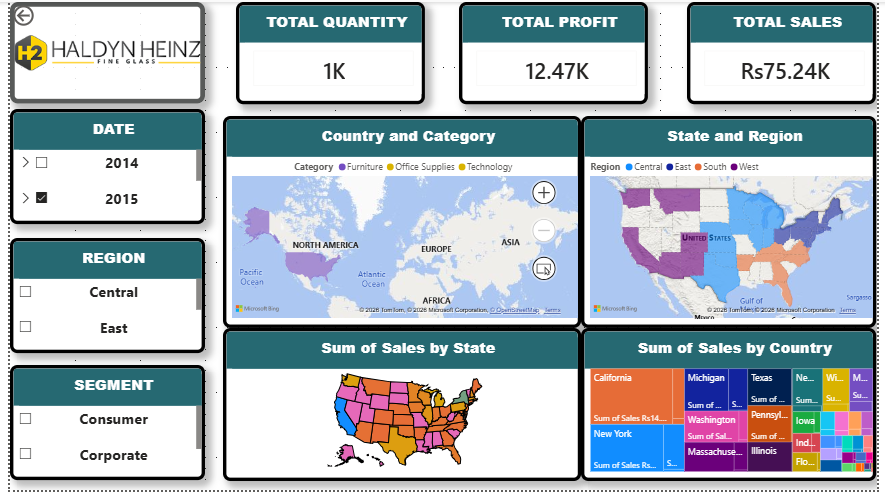

The page's visual inventory and layout, read from the dashboard file:
{"tool":"powerbi","page":{"name":"Region wise Anaylsis","canvas":[1280,720],"ordinal":4},"visuals":[{"type":"image","box":[0,0,288,150],"z":0},{"type":"cardVisual","title":"TOTAL QUANTITY","fields":{"Data":["Sum(Orders.Quantity)"]},"box":[334.3,0,279.4,150.9],"z":1000},{"type":"cardVisual","title":"TOTAL PROFIT","fields":{"Data":["Sum(Orders.Profit)"]},"box":[663.4,0,279.4,150.9],"z":2000},{"type":"cardVisual","title":"TOTAL SALES","fields":{"Data":["Sum(Orders.Sales)"]},"box":[1000.6,0,279.4,150.9],"z":3000},{"type":"listSlicer","title":"DATE","fields":{"Values":["Orders.Order Date.Variation.Date Hierarchy.Year","Orders.Order Date.Variation.Date Hierarchy.Quarter","Orders.Order Date.Variation.Date Hierarchy.Month","Orders.Order Date.Variation.Date Hierarchy.Day"]},"box":[0,157.7,288,169.7],"z":4000},{"type":"listSlicer","title":"REGION","fields":{"Values":["Orders.Region"]},"box":[0,348,288,169.7],"z":5000},{"type":"listSlicer","title":"SEGMENT","fields":{"Values":["Orders.Segment"]},"box":[0,536.6,288,169.7],"z":6000},{"type":"filledMap","fields":{"Category":["Orders.Country","Orders.City"],"Series":["Orders.Category"]},"box":[314.9,168.4,528.8,313.3],"z":7000},{"type":"actionButton","box":[0,0,100,40],"z":8000},{"type":"filledMap","fields":{"Category":["Orders.State"],"Series":["Orders.Region"]},"box":[843.8,168.4,436.2,313.3],"z":9000},{"type":"shapeMap","fields":{"Category":["Orders.State"],"Value":["Sum(Orders.Sales)"]},"box":[314.9,481.7,528.8,225.7],"z":10000},{"type":"treemap","title":"Sum of Sales by Country ","fields":{"Group":["Orders.Country","Orders.State","Orders.City","Orders.Region"],"Values":["Sum(Orders.Profit)","Sum(Orders.Sales)","Sum(Orders.Quantity)"]},"box":[844,482,436,226],"z":11000}]}

Visuals, with their boxes in screenshot pixels (x1, y1, x2, y2), scaled from the page's 1280x720 canvas onto the 885x495 screenshot:
image: {"left": 0, "top": 0, "right": 199, "bottom": 103}
"TOTAL QUANTITY" cardVisual: {"left": 231, "top": 0, "right": 424, "bottom": 104}
"TOTAL PROFIT" cardVisual: {"left": 459, "top": 0, "right": 652, "bottom": 104}
"TOTAL SALES" cardVisual: {"left": 692, "top": 0, "right": 884, "bottom": 104}
"DATE" listSlicer: {"left": 0, "top": 108, "right": 199, "bottom": 225}
"REGION" listSlicer: {"left": 0, "top": 239, "right": 199, "bottom": 356}
"SEGMENT" listSlicer: {"left": 0, "top": 369, "right": 199, "bottom": 486}
filledMap - Orders.Country x Orders.City: {"left": 218, "top": 116, "right": 583, "bottom": 331}
actionButton: {"left": 0, "top": 0, "right": 69, "bottom": 28}
filledMap - Orders.State x Orders.Region: {"left": 583, "top": 116, "right": 884, "bottom": 331}
shapeMap - Orders.State x Sum(Orders.Sales): {"left": 218, "top": 331, "right": 583, "bottom": 486}
"Sum of Sales by Country " treemap: {"left": 584, "top": 331, "right": 884, "bottom": 487}
